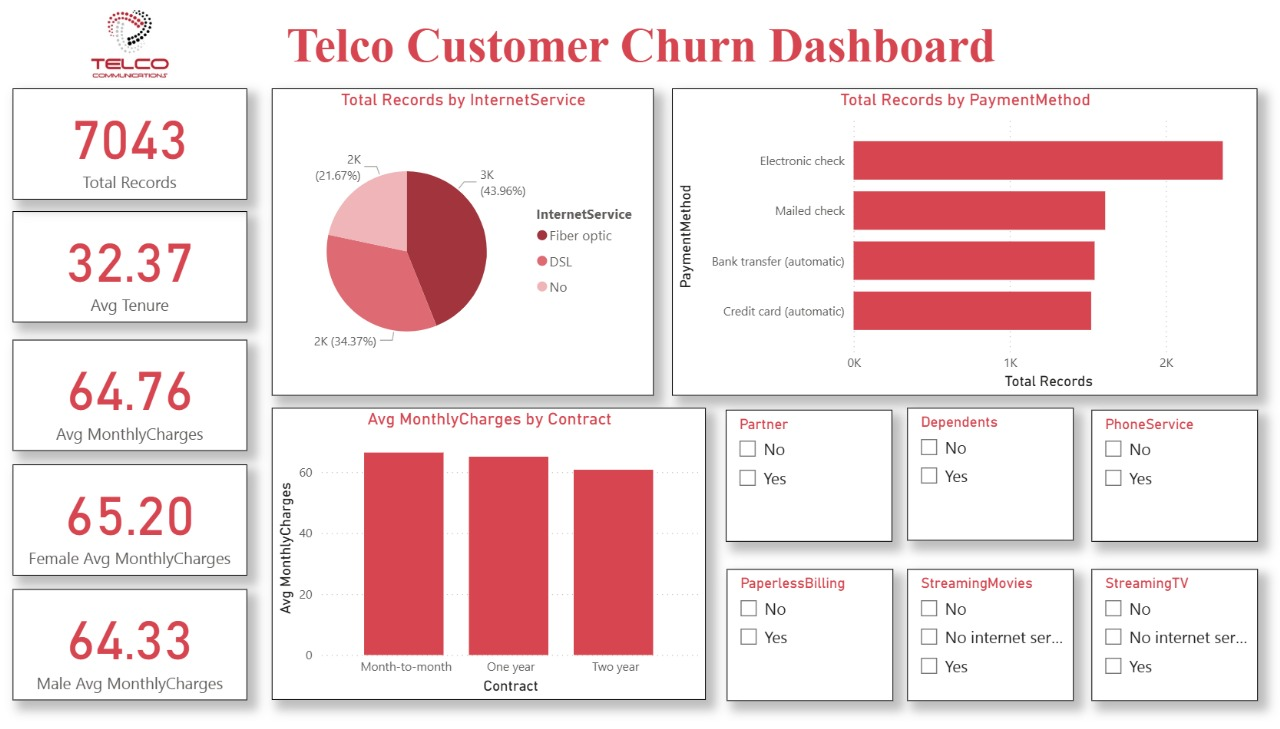

What the dashboard file says about the page in this screenshot:
{"tool":"powerbi","page":{"name":"Page 1","canvas":[1280,720],"ordinal":0},"visuals":[{"type":"textbox","box":[0,13.7,1280.3,74.1],"z":0},{"type":"card","fields":{"Values":["DF.Avg Tenure"]},"box":[12.3,211.3,234.6,111.1],"z":1000},{"type":"card","fields":{"Values":["DF.Avg MonthlyCharges"]},"box":[12.3,338.9,234.6,111.1],"z":2000},{"type":"card","fields":{"Values":["DF.Female Avg MonthlyCharges"]},"box":[12.3,463.8,234.6,111.1],"z":3000},{"type":"card","fields":{"Values":["DF.Male Avg MonthlyCharges"]},"box":[12.3,588.7,234.6,111.1],"z":4000},{"type":"card","fields":{"Values":["DF.Total Records"]},"box":[12.3,87.8,234.6,111.1],"z":5000},{"type":"pieChart","fields":{"Category":["DF.InternetService"],"Y":["DF.Total Records"]},"box":[271.7,87.8,381.5,307.4],"z":6000},{"type":"barChart","fields":{"Category":["DF.PaymentMethod"],"Y":["DF.Total Records"]},"box":[671,87.8,584.6,307.4],"z":7000},{"type":"columnChart","fields":{"Category":["DF.Contract"],"Y":["DF.Avg MonthlyCharges"]},"box":[271.7,407.5,433.6,292.3],"z":8000},{"type":"slicer","fields":{"Values":["DF.Partner"]},"box":[724.5,408.9,166,131.7],"z":9000},{"type":"slicer","fields":{"Values":["DF.Dependents"]},"box":[905.7,407.5,166,133.1],"z":10000},{"type":"slicer","fields":{"Values":["DF.PhoneService"]},"box":[1089.5,408.9,166,131.7],"z":10001},{"type":"slicer","fields":{"Values":["DF.PaperlessBilling"]},"box":[725.9,568.1,166,131.7],"z":10002},{"type":"slicer","fields":{"Values":["DF.StreamingMovies"]},"box":[905.7,568.1,166,131.7],"z":10003},{"type":"slicer","fields":{"Values":["DF.StreamingTV"]},"box":[1089.5,568.1,166,131.7],"z":10004},{"type":"image","box":[30.2,0,200.3,87.8],"z":10005}]}

Visuals, with their boxes in screenshot pixels (x1, y1, x2, y2), scaled from the page's 1280x720 canvas onto the 1280x729 screenshot:
textbox: {"x1": 0, "y1": 14, "x2": 1279, "y2": 89}
card - DF.Avg Tenure: {"x1": 12, "y1": 214, "x2": 247, "y2": 326}
card - DF.Avg MonthlyCharges: {"x1": 12, "y1": 343, "x2": 247, "y2": 456}
card - DF.Female Avg MonthlyCharges: {"x1": 12, "y1": 470, "x2": 247, "y2": 582}
card - DF.Male Avg MonthlyCharges: {"x1": 12, "y1": 596, "x2": 247, "y2": 709}
card - DF.Total Records: {"x1": 12, "y1": 89, "x2": 247, "y2": 201}
pieChart - DF.InternetService x DF.Total Records: {"x1": 272, "y1": 89, "x2": 653, "y2": 400}
barChart - DF.PaymentMethod x DF.Total Records: {"x1": 671, "y1": 89, "x2": 1256, "y2": 400}
columnChart - DF.Contract x DF.Avg MonthlyCharges: {"x1": 272, "y1": 413, "x2": 705, "y2": 709}
slicer - DF.Partner: {"x1": 724, "y1": 414, "x2": 890, "y2": 547}
slicer - DF.Dependents: {"x1": 906, "y1": 413, "x2": 1072, "y2": 547}
slicer - DF.PhoneService: {"x1": 1090, "y1": 414, "x2": 1256, "y2": 547}
slicer - DF.PaperlessBilling: {"x1": 726, "y1": 575, "x2": 892, "y2": 709}
slicer - DF.StreamingMovies: {"x1": 906, "y1": 575, "x2": 1072, "y2": 709}
slicer - DF.StreamingTV: {"x1": 1090, "y1": 575, "x2": 1256, "y2": 709}
image: {"x1": 30, "y1": 0, "x2": 230, "y2": 89}
